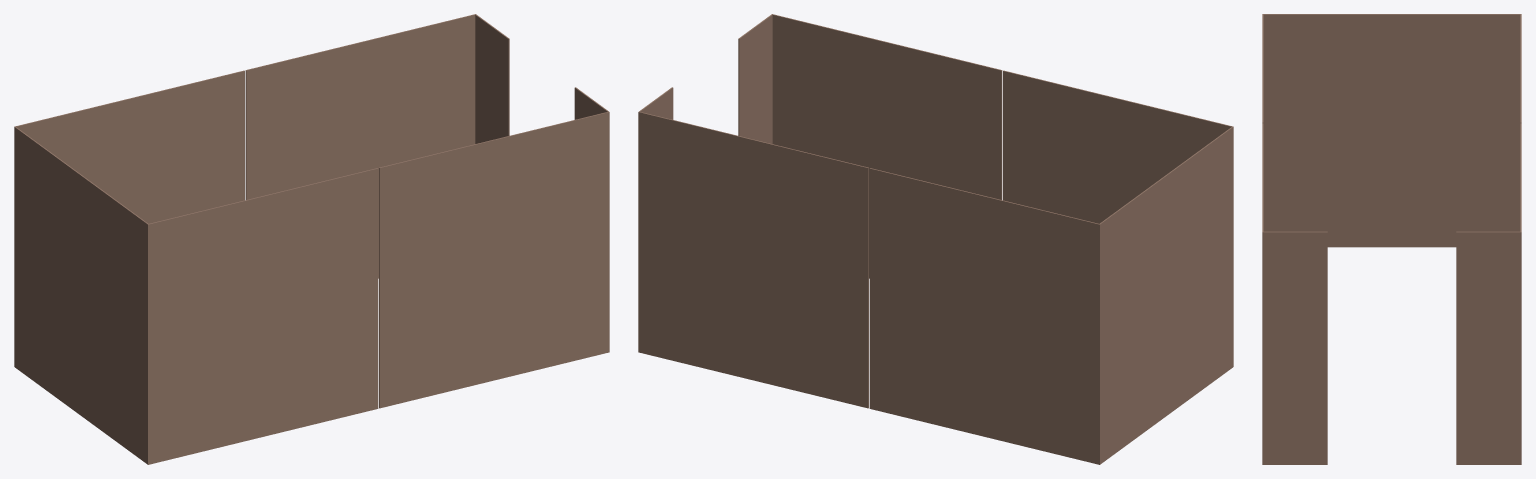
File: awingWallOne.gltf
The picture shows the model from 3 angles, left to right: view 1: azimuth 30°, elevation 25°; view 2: azimuth 150°, elevation 25°; view 3: azimuth 270°, elevation 25°; orthographic projection. The views are drawn at different scales.
Visible parts, largest first — view 1: awingWallOne; view 2: awingWallOne; view 3: awingWallOne.
Boxes of the visible parts, box(x1,y1,x2,y2) form: awingWallOne: box(14, 14, 609, 464); awingWallOne: box(638, 14, 1233, 464); awingWallOne: box(1262, 14, 1521, 464).
Bounding box in the file's own units: 4.02 × 2 × 2.02.
